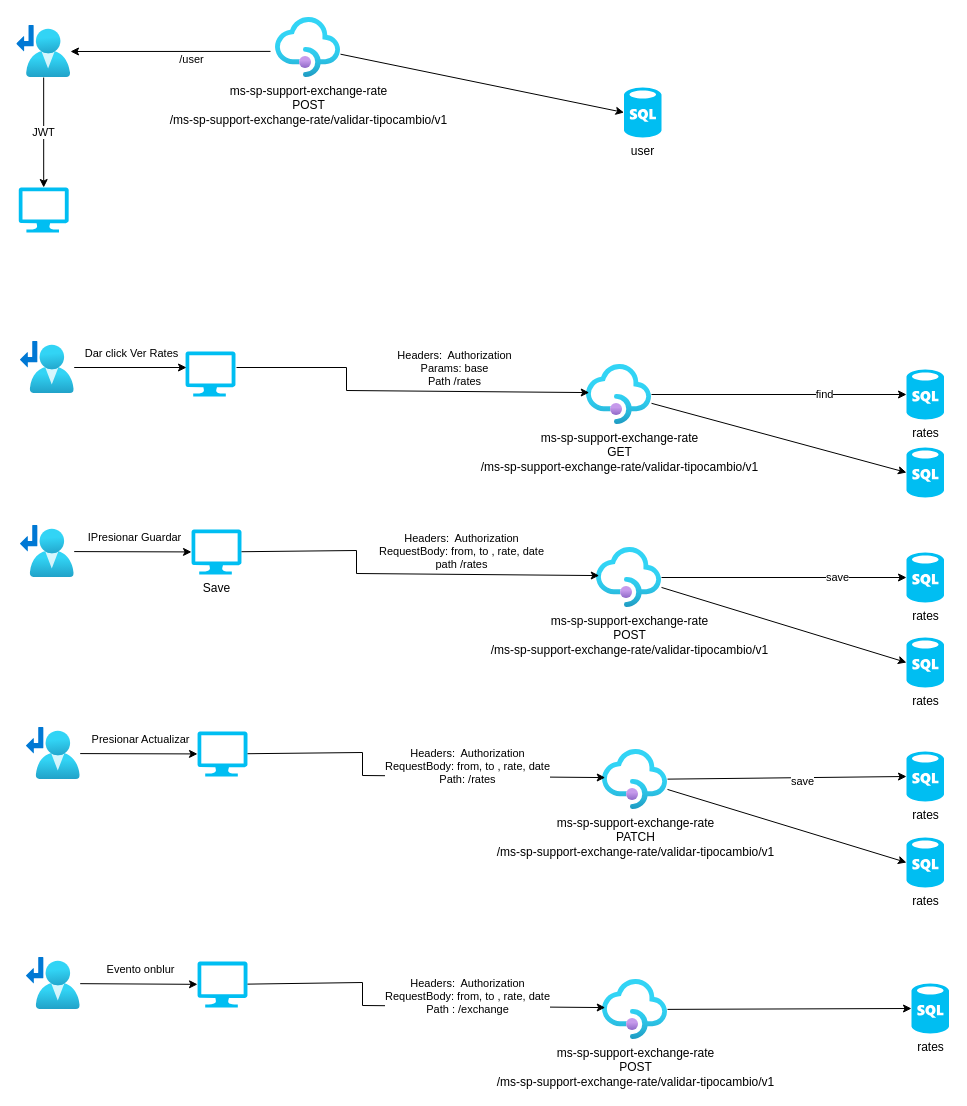
This 967x1106 diagram has some shape labels left out. Here are the shapes that lost their labels. From the top down, the centre of each, then its label:
At point 43,209: "login".
At point 210,373: "Ver rates".
At point 925,472: "trace".
At point 222,753: "update".
At point 222,984: "input monto a cambiar".
